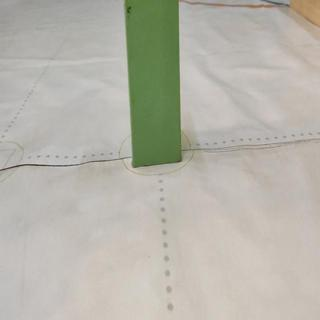greenbox: (122, 1, 189, 166)
